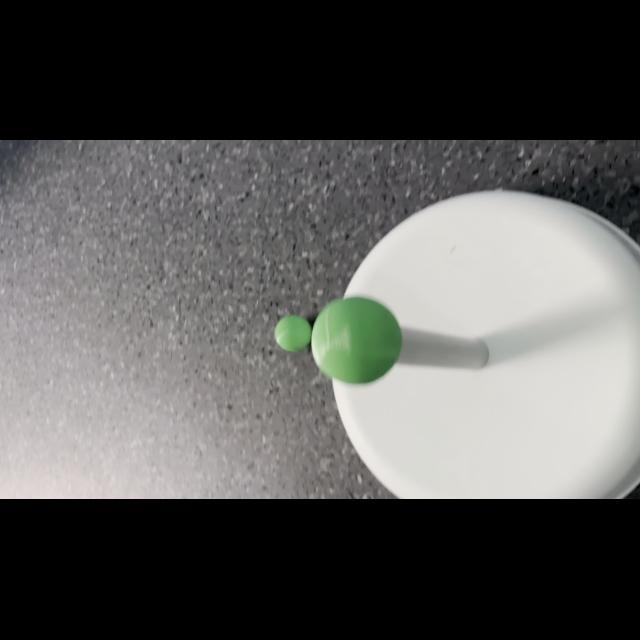objects: (309, 294, 407, 386), (270, 306, 312, 356)
